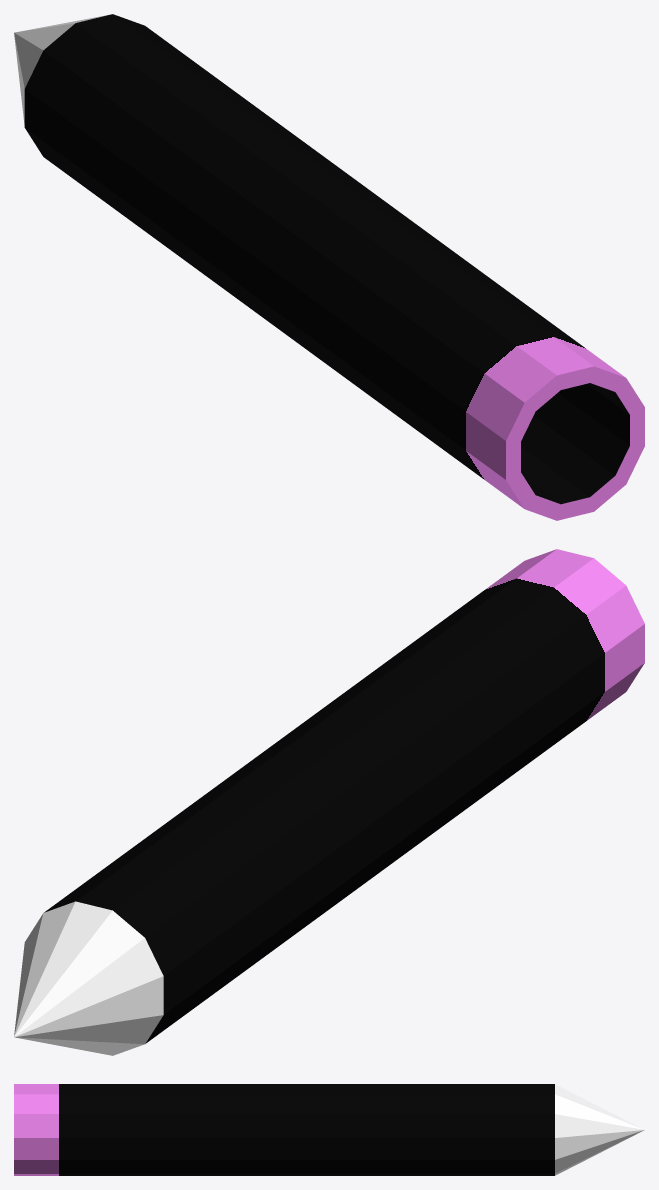
File: Pencil.gltf
3 renders of one model, top to bottom at view 1: azimuth 30°, elevation 25°; view 2: azimuth 150°, elevation 25°; view 3: azimuth 270°, elevation 25°, orthographic. The views are drawn at different scales.
Visible parts, largest first — view 1: tube, cone; view 2: tube, cone; view 3: tube, cone.
Boxes of the visible parts, x1=… form: tube: x1=24, y1=14, x2=644, y2=520; cone: x1=14, y1=14, x2=109, y2=125; tube: x1=44, y1=549, x2=644, y2=1043; cone: x1=14, y1=901, x2=163, y2=1055; tube: x1=14, y1=1084, x2=554, y2=1175; cone: x1=555, y1=1084, x2=644, y2=1175.
Bounding box in the file's own units: 0.125 × 0.125 × 0.875.
Materials: 2 (1 with a texture image).
